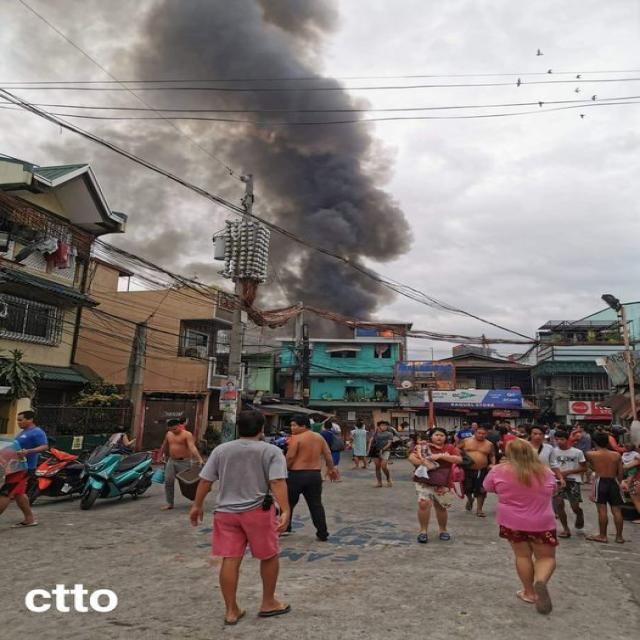Smoke: (85, 2, 383, 160), (276, 146, 440, 304)
